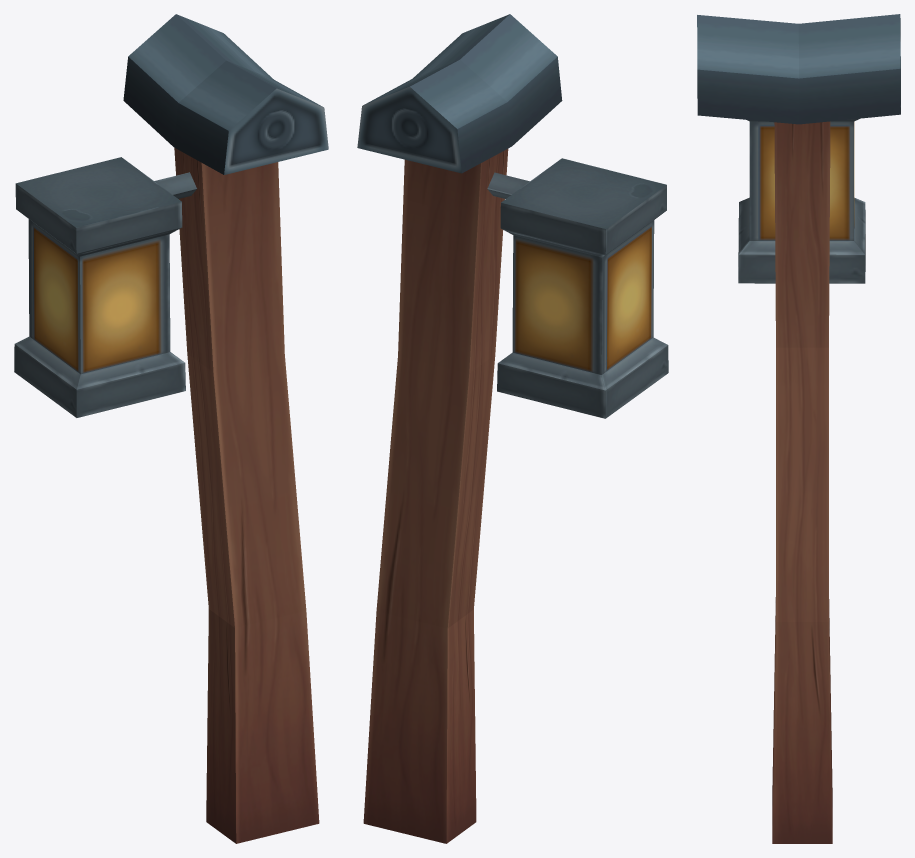
File: lantern_03.fbx
The picture shows the model from 3 angles, left to right: view 1: azimuth 30°, elevation 25°; view 2: azimuth 150°, elevation 25°; view 3: azimuth 270°, elevation 25°; orthographic projection.
Parts seen in each view (by area): view 1: lantern_03:Mesh; view 2: lantern_03:Mesh; view 3: lantern_03:Mesh.
Boxes of the visible parts, <box> form: lantern_03:Mesh: <box>14,14,328,843</box>; lantern_03:Mesh: <box>357,14,668,843</box>; lantern_03:Mesh: <box>697,14,900,843</box>.
Bounding box in the file's own units: 0.6092 × 1.76 × 0.4106.
Materials: 1 (1 with a texture image).
